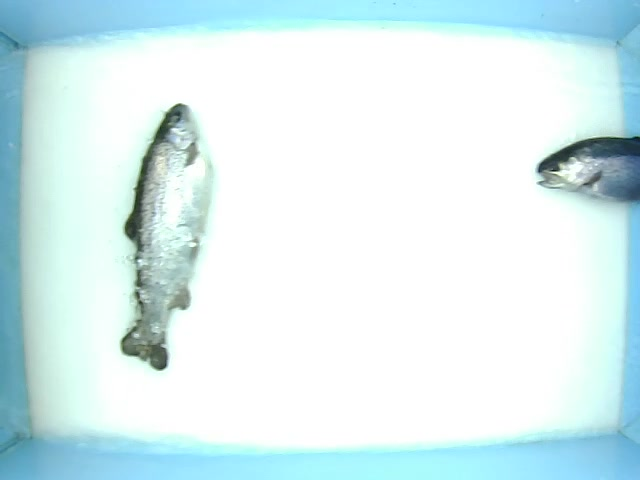fish: (88, 92, 226, 385)
